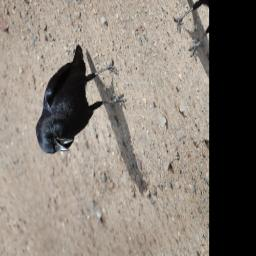Crow: (16, 29, 133, 167)
